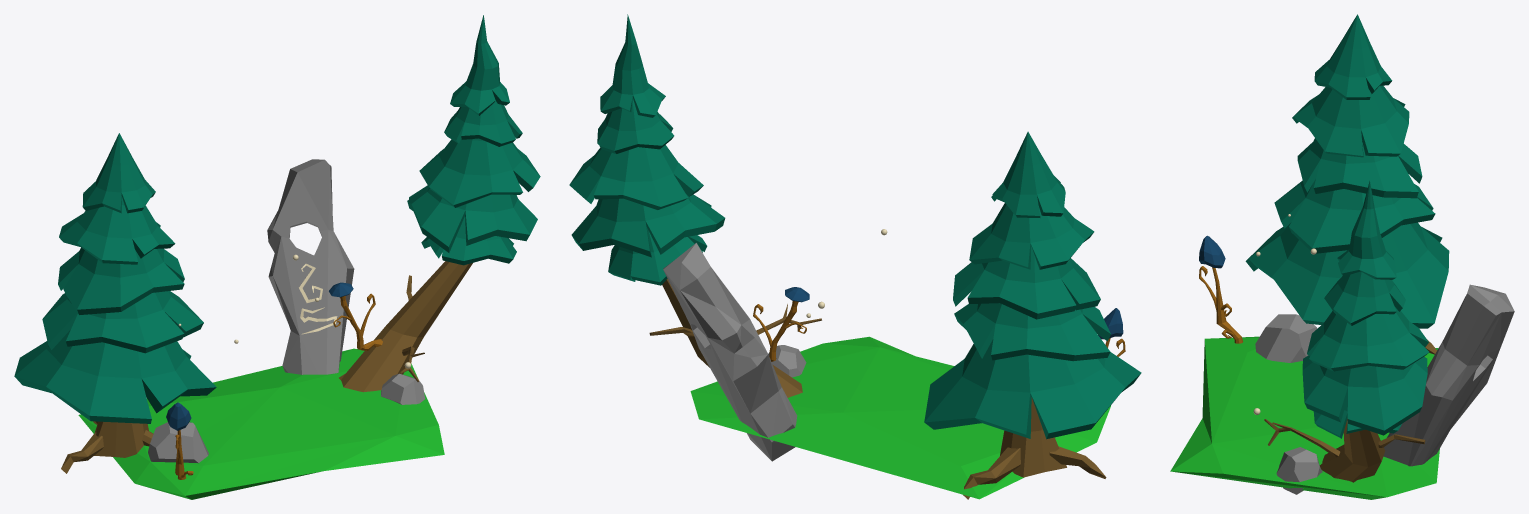
File: ARBOL.fbx
3 renders of one model, left to right at view 1: azimuth 30°, elevation 25°; view 2: azimuth 150°, elevation 25°; view 3: azimuth 270°, elevation 25°, orthographic. The views are drawn at different scales.
Parts seen in each view (by area): view 1: Pine01, Sphere.001, Pine02, Shrine.001, Sphere, Sphere.007, Mushroom02, Mushroom; view 2: Pine01, Sphere.001, Pine02, Shrine.001, Mushroom02, Sphere.007; view 3: Pine01, Pine02, Sphere.001, Shrine.001, Sphere, Mushroom, Sphere.007.
Boxes of the visible parts, bbox=[...] form: Pine01: bbox=[14, 133, 216, 473]; Sphere.001: bbox=[78, 348, 444, 499]; Pine02: bbox=[339, 15, 540, 392]; Shrine.001: bbox=[267, 159, 354, 374]; Sphere: bbox=[148, 422, 208, 463]; Sphere.007: bbox=[381, 373, 425, 404]; Mushroom02: bbox=[329, 282, 382, 350]; Mushroom: bbox=[166, 402, 193, 479]; Pine01: bbox=[924, 131, 1141, 499]; Sphere.001: bbox=[690, 336, 1110, 499]; Pine02: bbox=[569, 14, 821, 397]; Shrine.001: bbox=[663, 243, 797, 461]; Mushroom02: bbox=[753, 287, 809, 361]; Sphere.007: bbox=[768, 345, 806, 377]; Pine01: bbox=[1245, 14, 1449, 354]; Pine02: bbox=[1264, 180, 1429, 482]; Sphere.001: bbox=[1170, 336, 1439, 499]; Shrine.001: bbox=[1383, 284, 1514, 466]; Sphere: bbox=[1255, 314, 1317, 362]; Mushroom: bbox=[1199, 235, 1243, 343]; Sphere.007: bbox=[1276, 447, 1322, 494].
Bounding box in the file's own units: 995 × 693 × 559.
